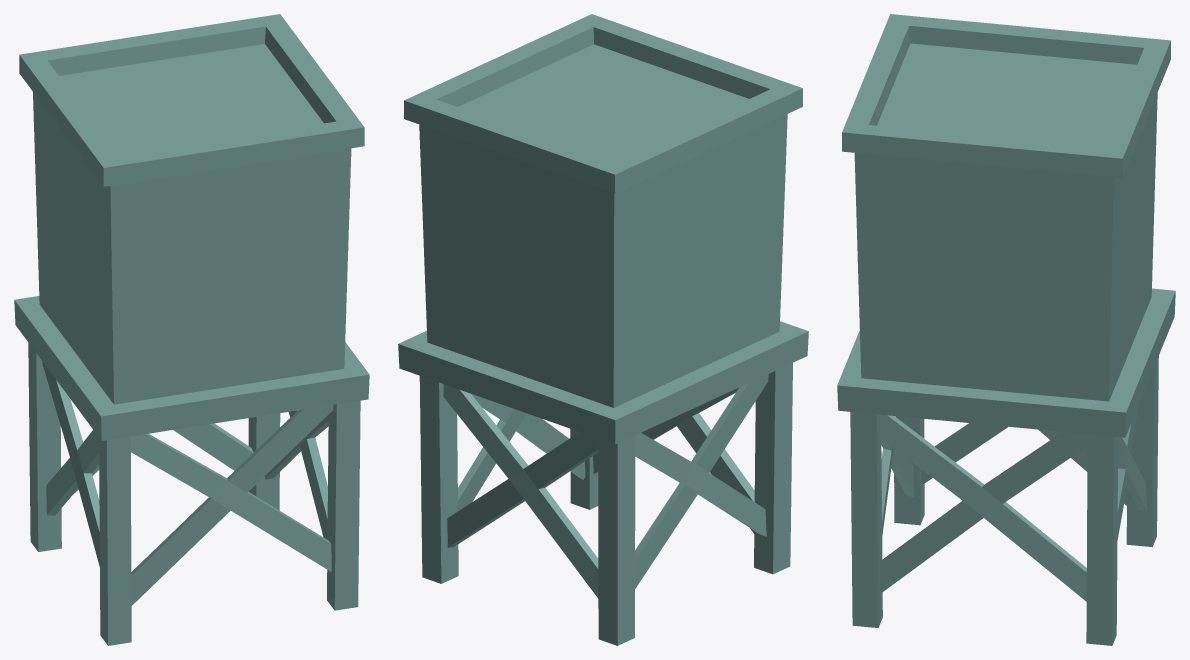
File: water cooler.fbx
3 views of the same model, side by side, from view 1: azimuth 30°, elevation 25°; view 2: azimuth 150°, elevation 25°; view 3: azimuth 270°, elevation 25° (orthographic). The views are drawn at different scales.
Visible parts, largest first — view 1: water cooler; view 2: water cooler; view 3: water cooler.
Part boxes in pixels (x1,y1,x2,y2): water cooler: (14,14,369,645); water cooler: (398,14,808,645); water cooler: (837,14,1175,645).
Bounding box in the file's own units: 1356 × 2094 × 1301.
